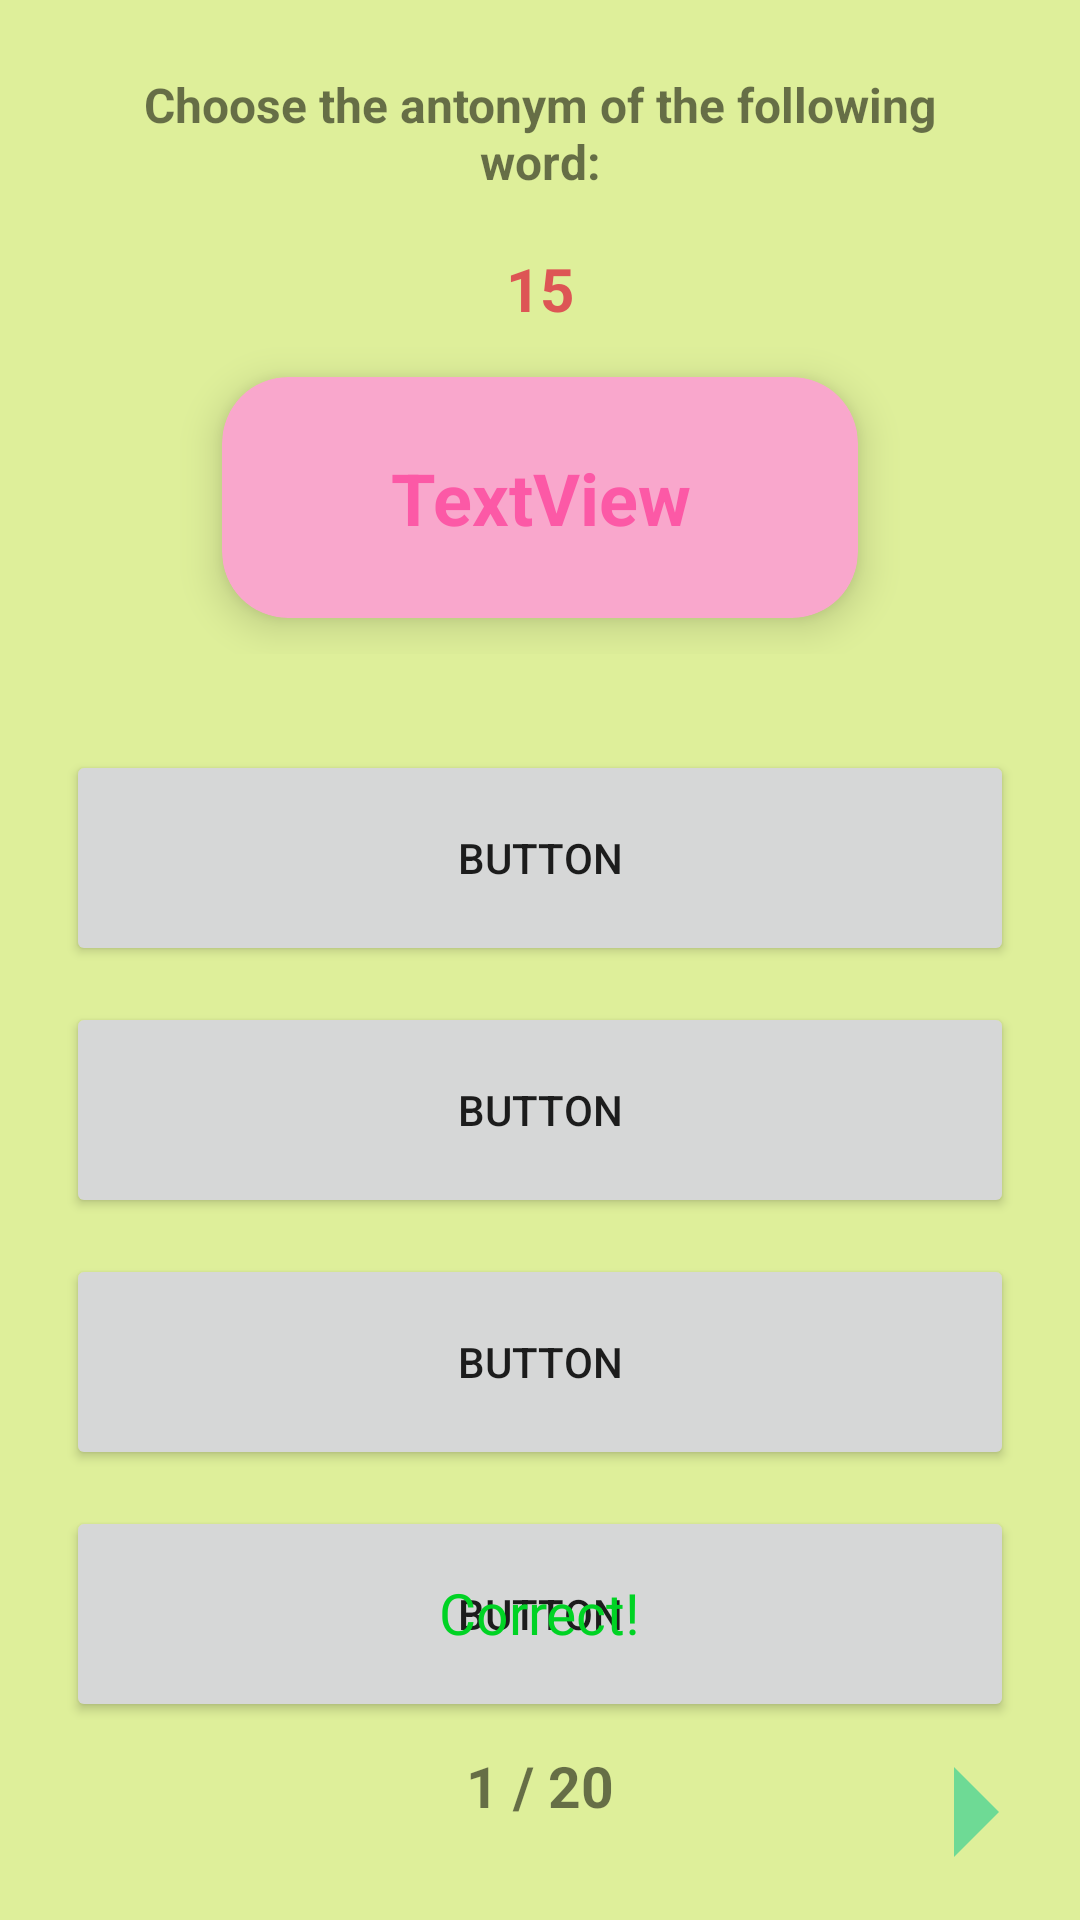

Locate icon controls on the screen. Image size 1080 × 1920, boxes as [x1,y1,x2,y2].
arrow right: [954,1767,999,1857]
